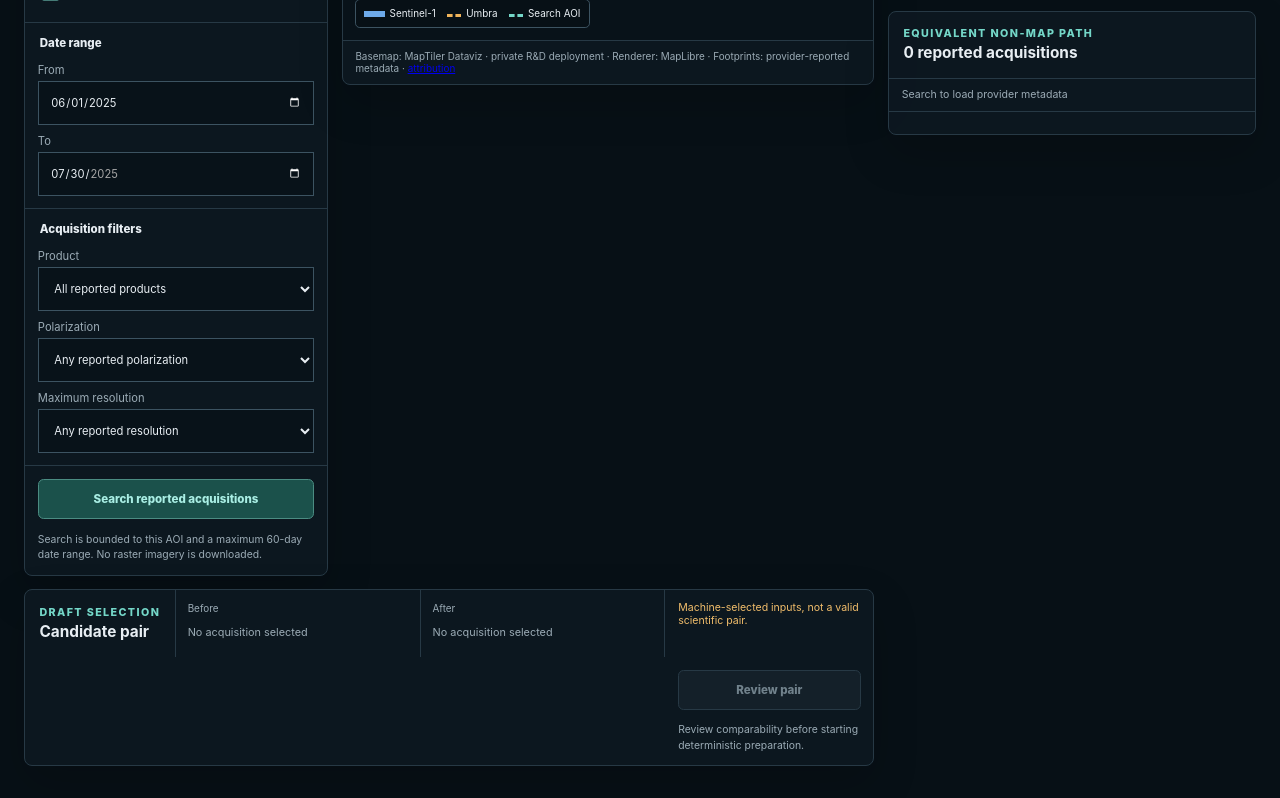
Test: Explore › distinguishes an empty provider response from never-imaged
(page scrolled)
Click the button "Search reported acquisitions": point(176, 499) [38, 479, 314, 519]
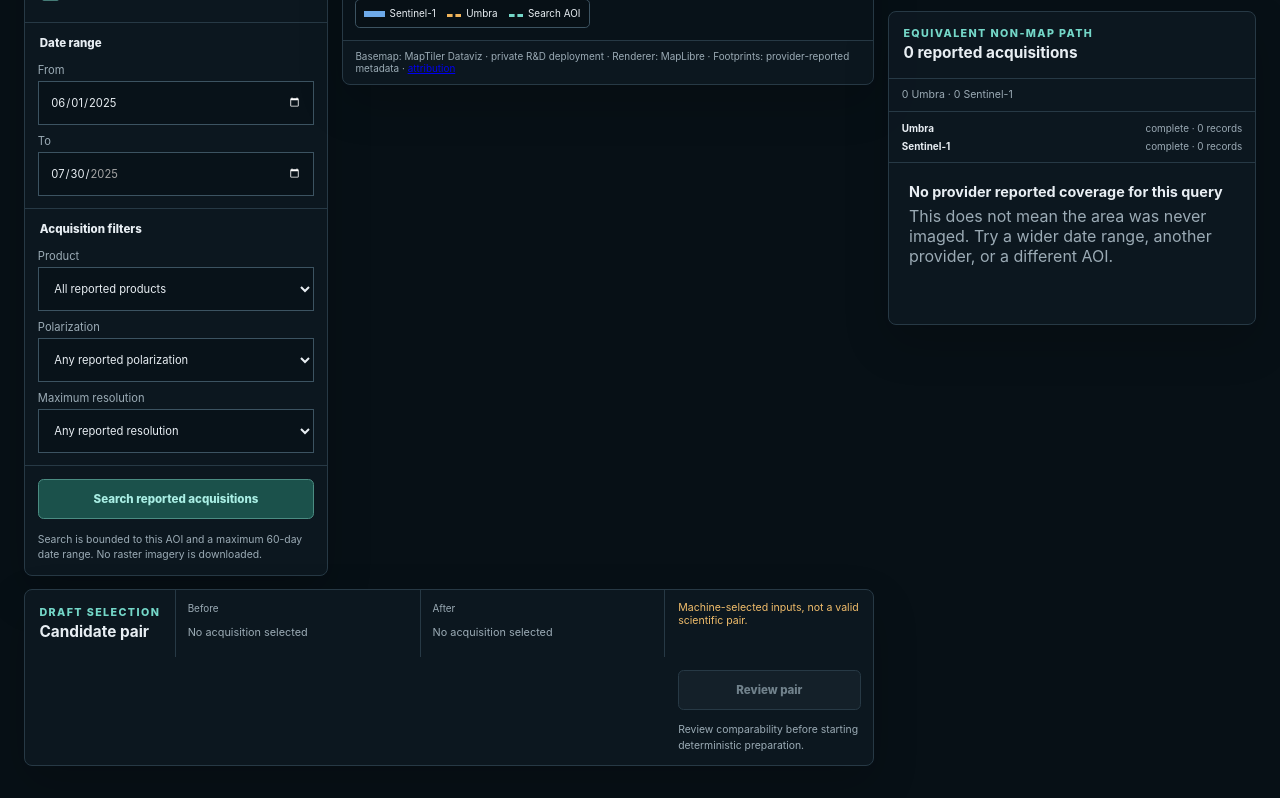
Check: the heading "No provider reported coverage for this query" is shown, box [909, 184, 1235, 200]
Check: the text "does not mean the area was never imaged" is shown, box [909, 206, 1212, 266]
